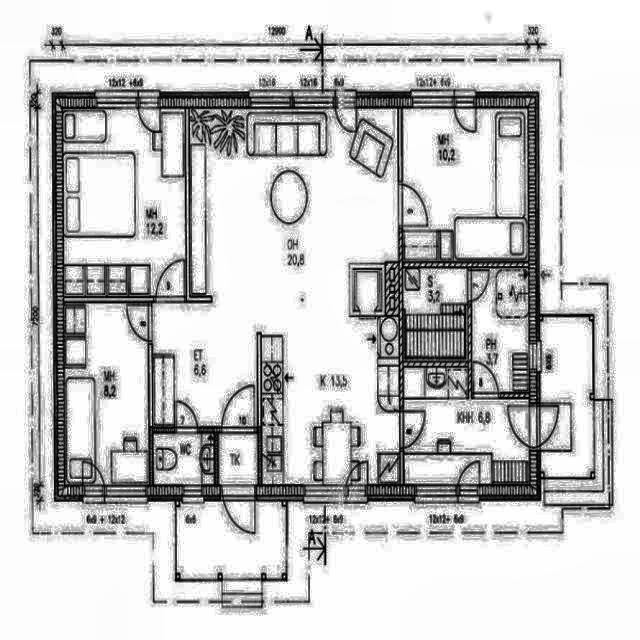room: (151, 107, 400, 484), (63, 109, 186, 297), (402, 108, 528, 262), (64, 303, 148, 485), (404, 368, 529, 484), (472, 268, 529, 392), (404, 268, 467, 361), (153, 433, 214, 484), (219, 433, 258, 484)
